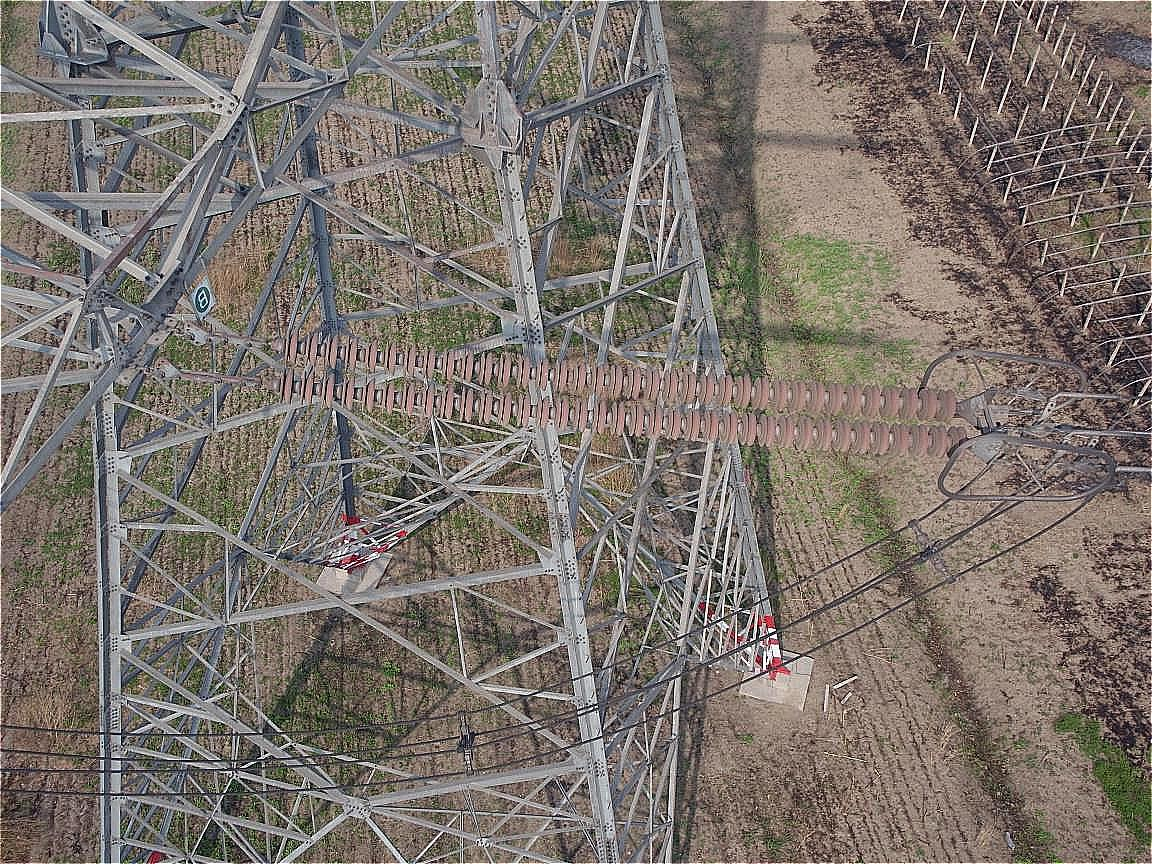insultor2: (252, 311, 990, 481)
